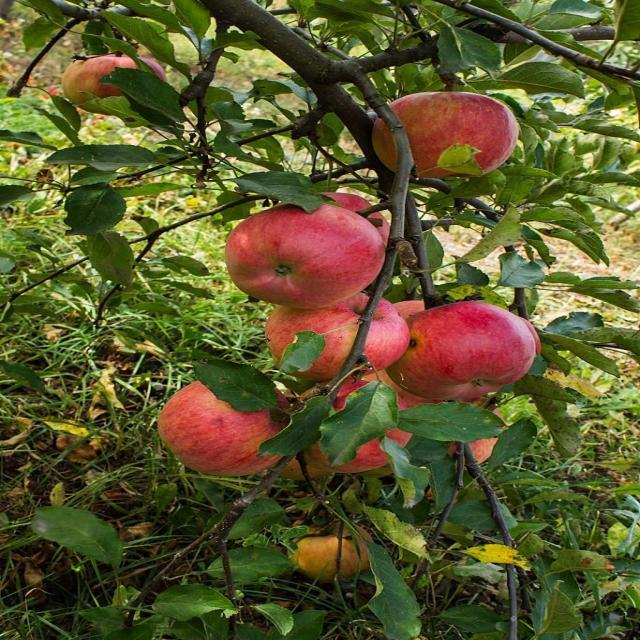Red Apple: (237, 206, 384, 300), (409, 298, 531, 394), (179, 382, 299, 470), (384, 92, 512, 170), (276, 290, 406, 365), (325, 386, 398, 462), (73, 56, 165, 105)
